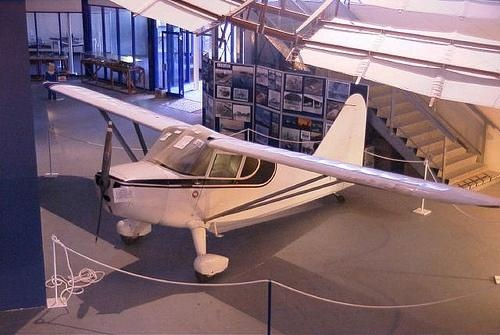aeroplane: (50, 83, 500, 285)
